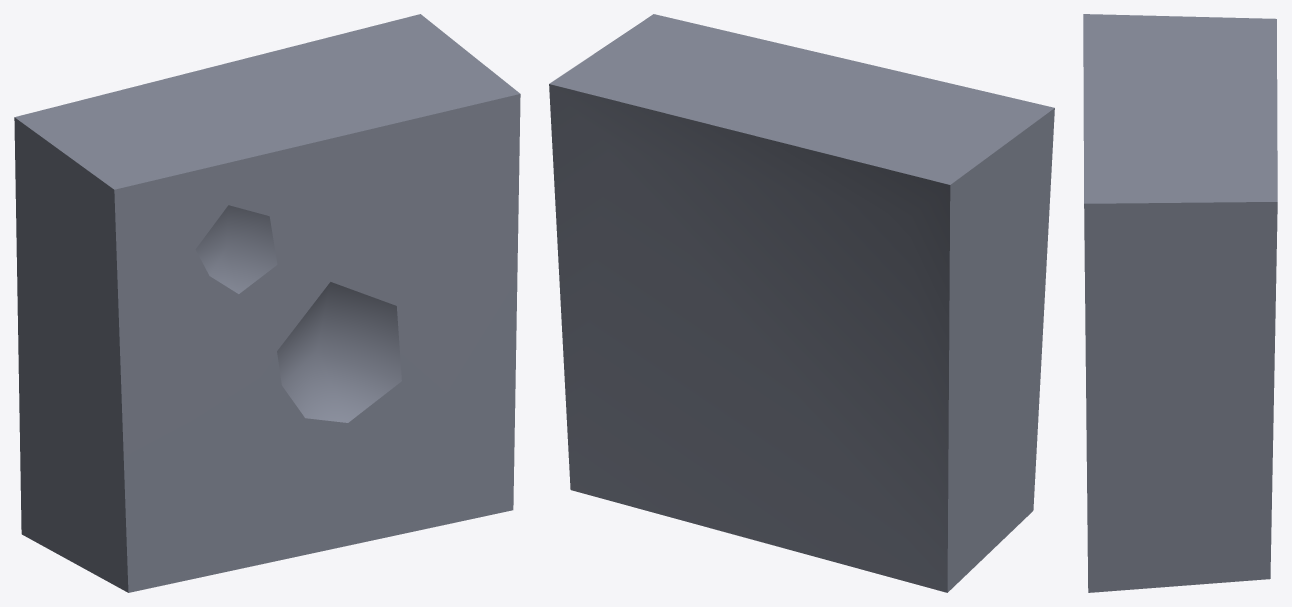
Rendered from wall_type04.fbx.
3 views of the same model, side by side, from view 1: azimuth 30°, elevation 25°; view 2: azimuth 150°, elevation 25°; view 3: azimuth 270°, elevation 25° (orthographic). The views are drawn at different scales.
Parts seen in each view (by area): view 1: wall_type.004; view 2: wall_type.004; view 3: wall_type.004.
Part boxes in pixels (bbox=[...]): wall_type.004: bbox=[14, 14, 520, 592]; wall_type.004: bbox=[549, 14, 1054, 592]; wall_type.004: bbox=[1083, 14, 1277, 592].
Size of the model in its own units: 38.92 by 38.15 by 17.03.
